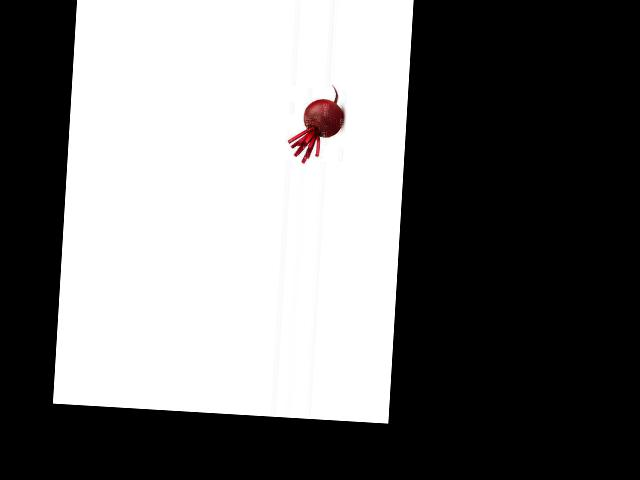beet: (287, 83, 345, 166)
